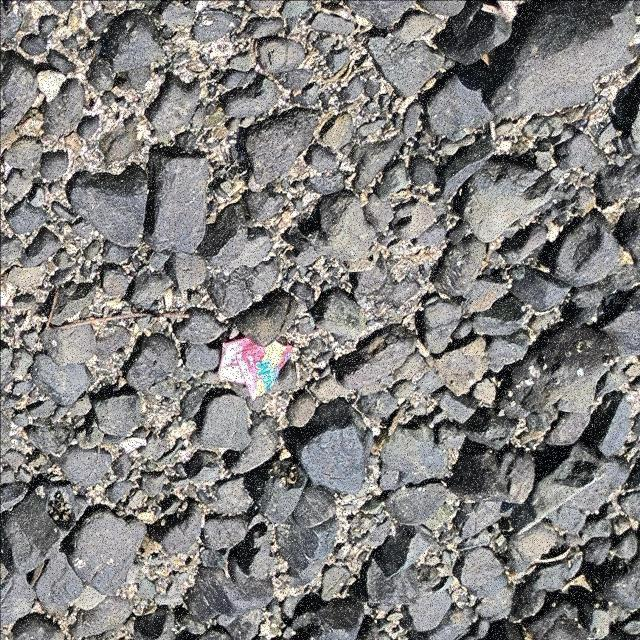plastic_waste: (217, 338, 293, 403)
